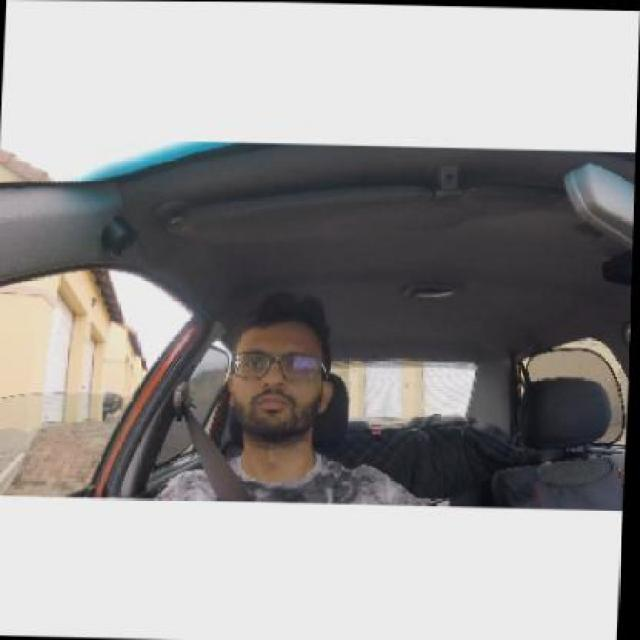person: (217, 290, 339, 444)
